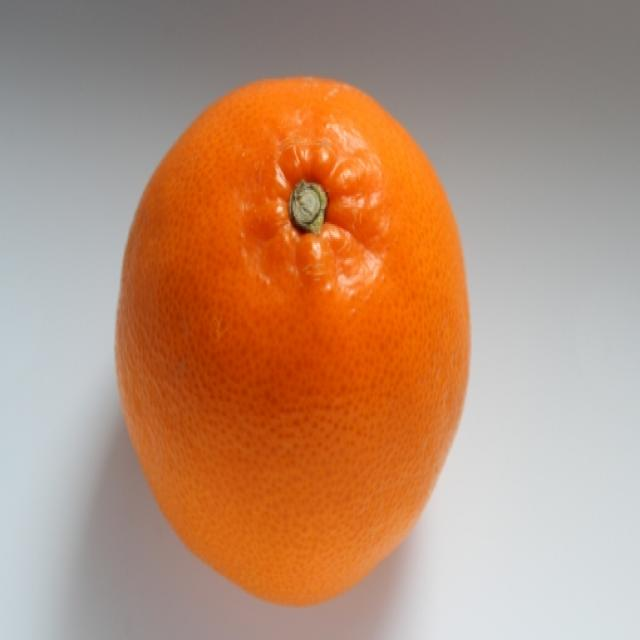Orange: (114, 73, 472, 609)
